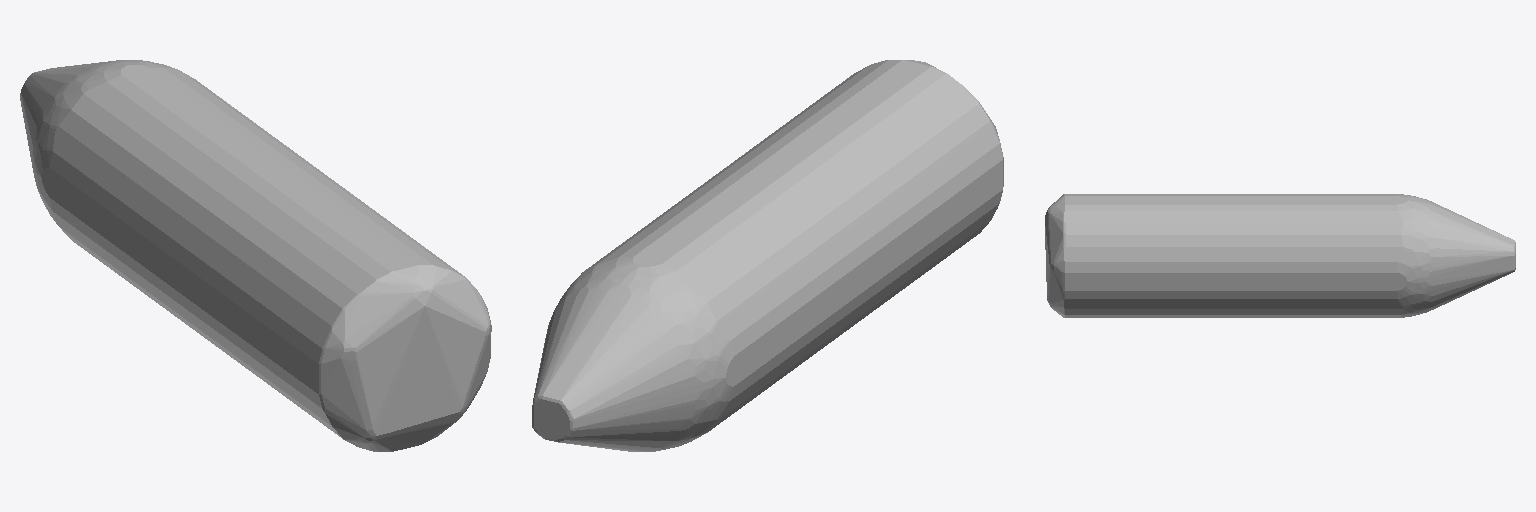
URDF robot description (root):
<robot name="root">
  <link name="link_coacd_convex_piece_0">
    <inertial>
      <origin xyz="0 0 0" rpy="0 0 0"/>
      <inertia ixx="7.64E-02" ixy="-1.63E-05" ixz="-2.51E-06" iyy="9.20E-03" iyz="1.86E-05" izz="7.64E-02"/>
    </inertial>
    <visual>
      <origin xyz="0 0 0" rpy="0 0 0"/>
      <geometry>
        <mesh filename="coacd_convex_piece_0.obj" scale="1.0000E+00 1.0000E+00 1.0000E+00"/>
      </geometry>
      <material name="">
        <color rgba="7.50E-01 7.50E-01 7.50E-01 1"/>
      </material>
    </visual>
    <collision>
      <origin xyz="0 0 0" rpy="0 0 0"/>
      <geometry>
        <mesh filename="coacd_convex_piece_0.obj" scale="1.0000E+00 1.0000E+00 1.0000E+00"/>
      </geometry>
    </collision>
  </link>
</robot>

--- Render facts (derived) ---
3 views of the same robot in one strip: view 1: azimuth 30°, elevation 25°; view 2: azimuth 150°, elevation 25°; view 3: azimuth 270°, elevation 25° (orthographic).
Model root with 1 links and 0 joints (none), rooted at link_coacd_convex_piece_0, posed all joints at 0.
Links seen in each view (by area): view 1: link_coacd_convex_piece_0; view 2: link_coacd_convex_piece_0; view 3: link_coacd_convex_piece_0.
Link boxes in pixels (x1,y1,x2,y2): link_coacd_convex_piece_0: (20, 60, 491, 451); link_coacd_convex_piece_0: (532, 60, 1003, 451); link_coacd_convex_piece_0: (1045, 194, 1515, 317).
Size in the robot's own frame: 0.5029 by 1.93 by 0.5029 metres.
Meshes: 1 distinct files referenced, 1 mesh visuals loaded (1 OBJ).